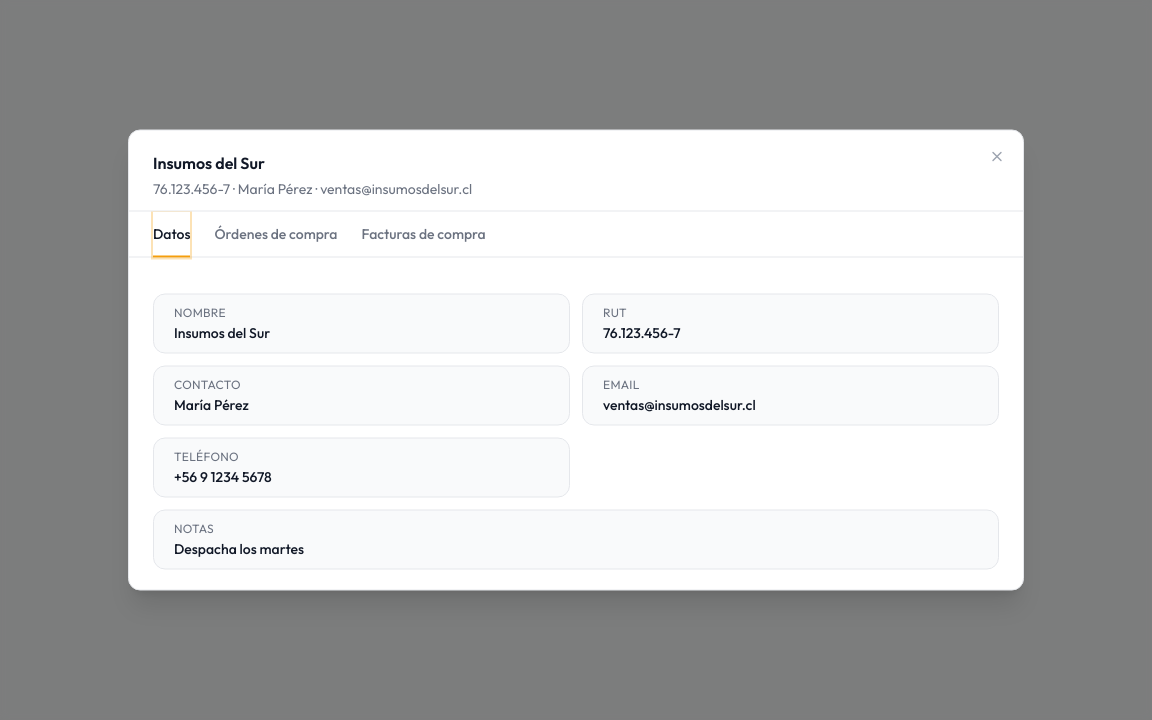
Test case: ProveedorDetailModal › renders FC row with link to /facturas-compra/<id>
What coordinates should you click on to do the following:
click the tab "Facturas de compra"
I would click on:
 (424, 234)
Its box is [362,212,486,258].
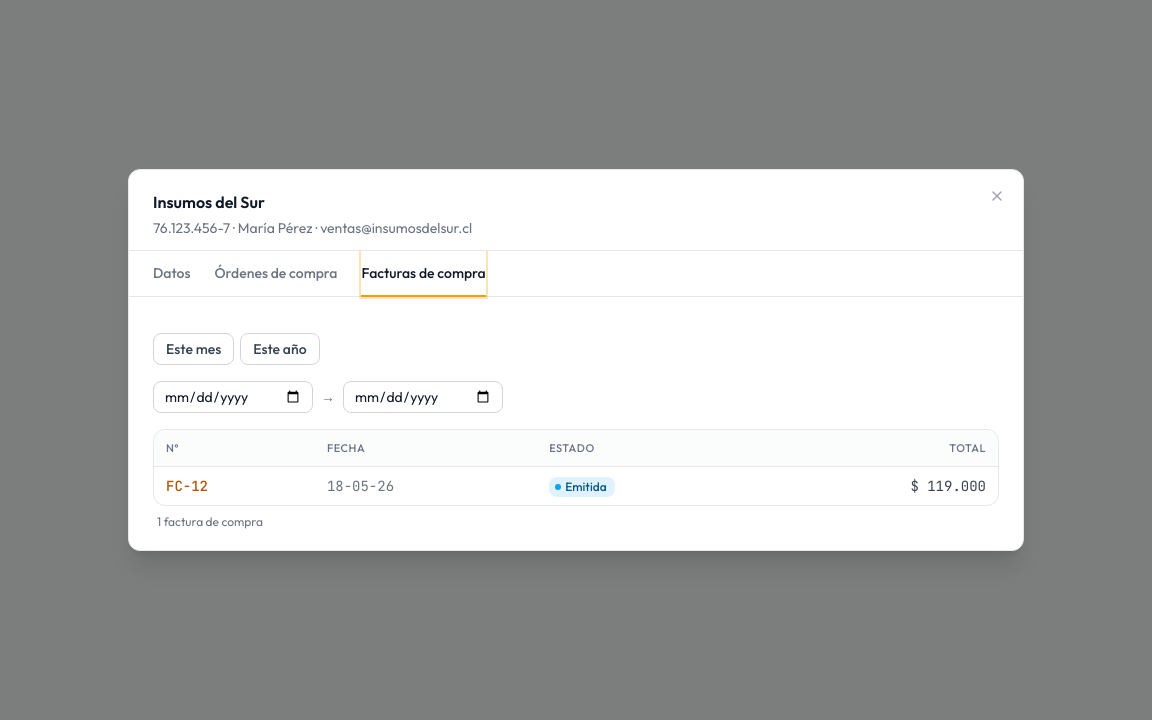
Expected: the text "Emitida" is shown, [549,477,615,497]
Expected: the text "1 factura de compra" is shown, [157,514,263,529]
